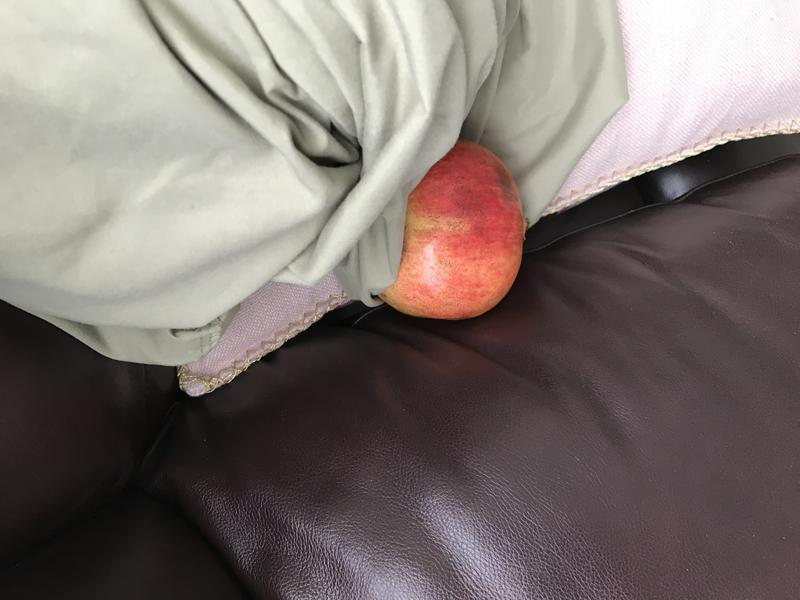pomegranate: (359, 130, 535, 331)
